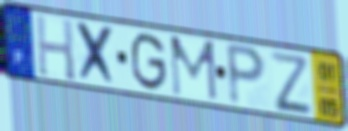G: (130, 31, 169, 94)
H: (33, 12, 78, 84)
M: (168, 34, 220, 104)
P: (225, 40, 269, 109)
X: (74, 19, 119, 90)
Z: (267, 49, 314, 115)
